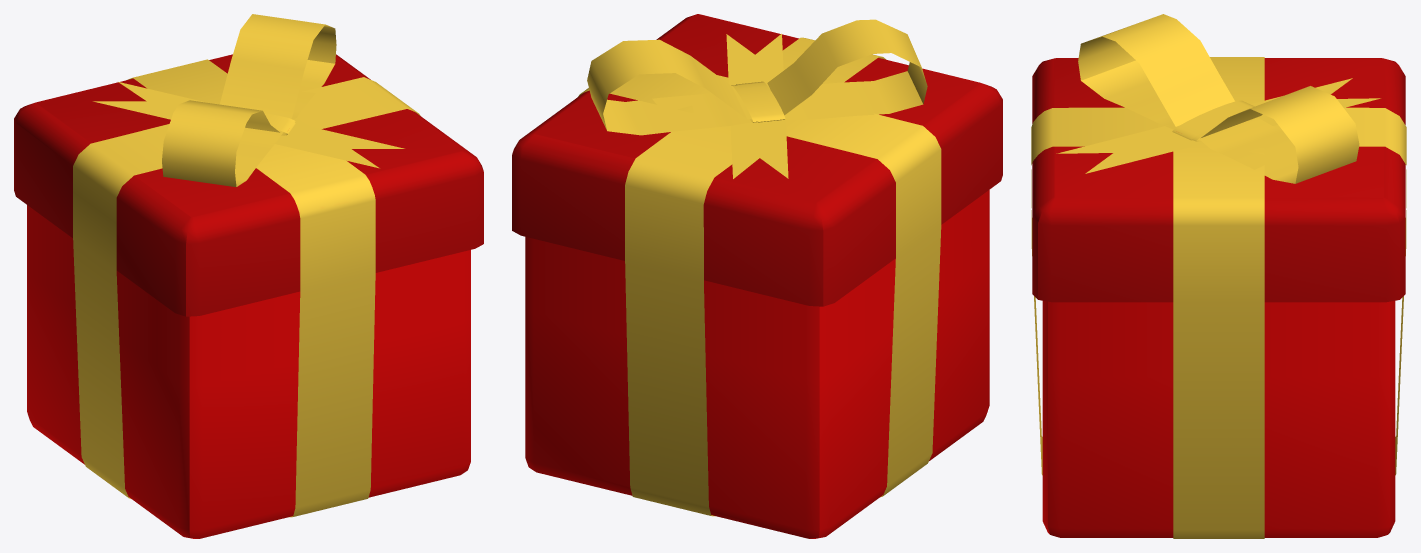
File: gift_box.fbx
The picture shows the model from 3 angles, left to right: view 1: azimuth 30°, elevation 25°; view 2: azimuth 150°, elevation 25°; view 3: azimuth 270°, elevation 25°; orthographic projection. The views are drawn at different scales.
Parts seen in each view (by area): view 1: gift_box; view 2: gift_box; view 3: gift_box.
Boxes of the visible parts, <box> form: gift_box: <box>14,14,483,538</box>; gift_box: <box>512,14,1002,538</box>; gift_box: <box>1031,14,1406,538</box>.
Bounding box in the file's own units: 26.18 × 31.36 × 26.18.
